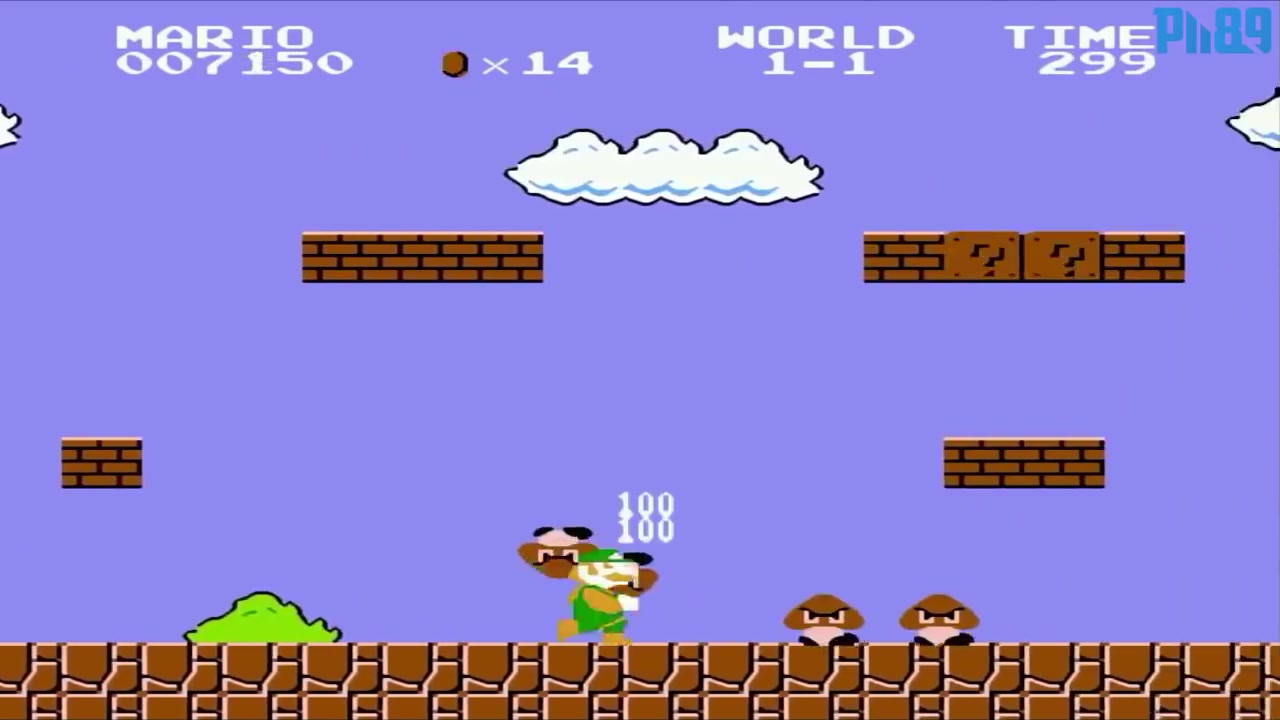mario: (547, 541, 643, 645)
